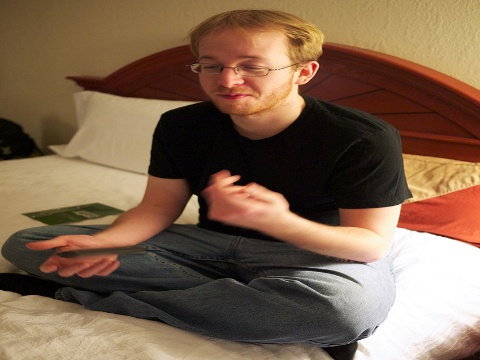hand: (202, 170, 290, 235), (25, 234, 120, 278)
